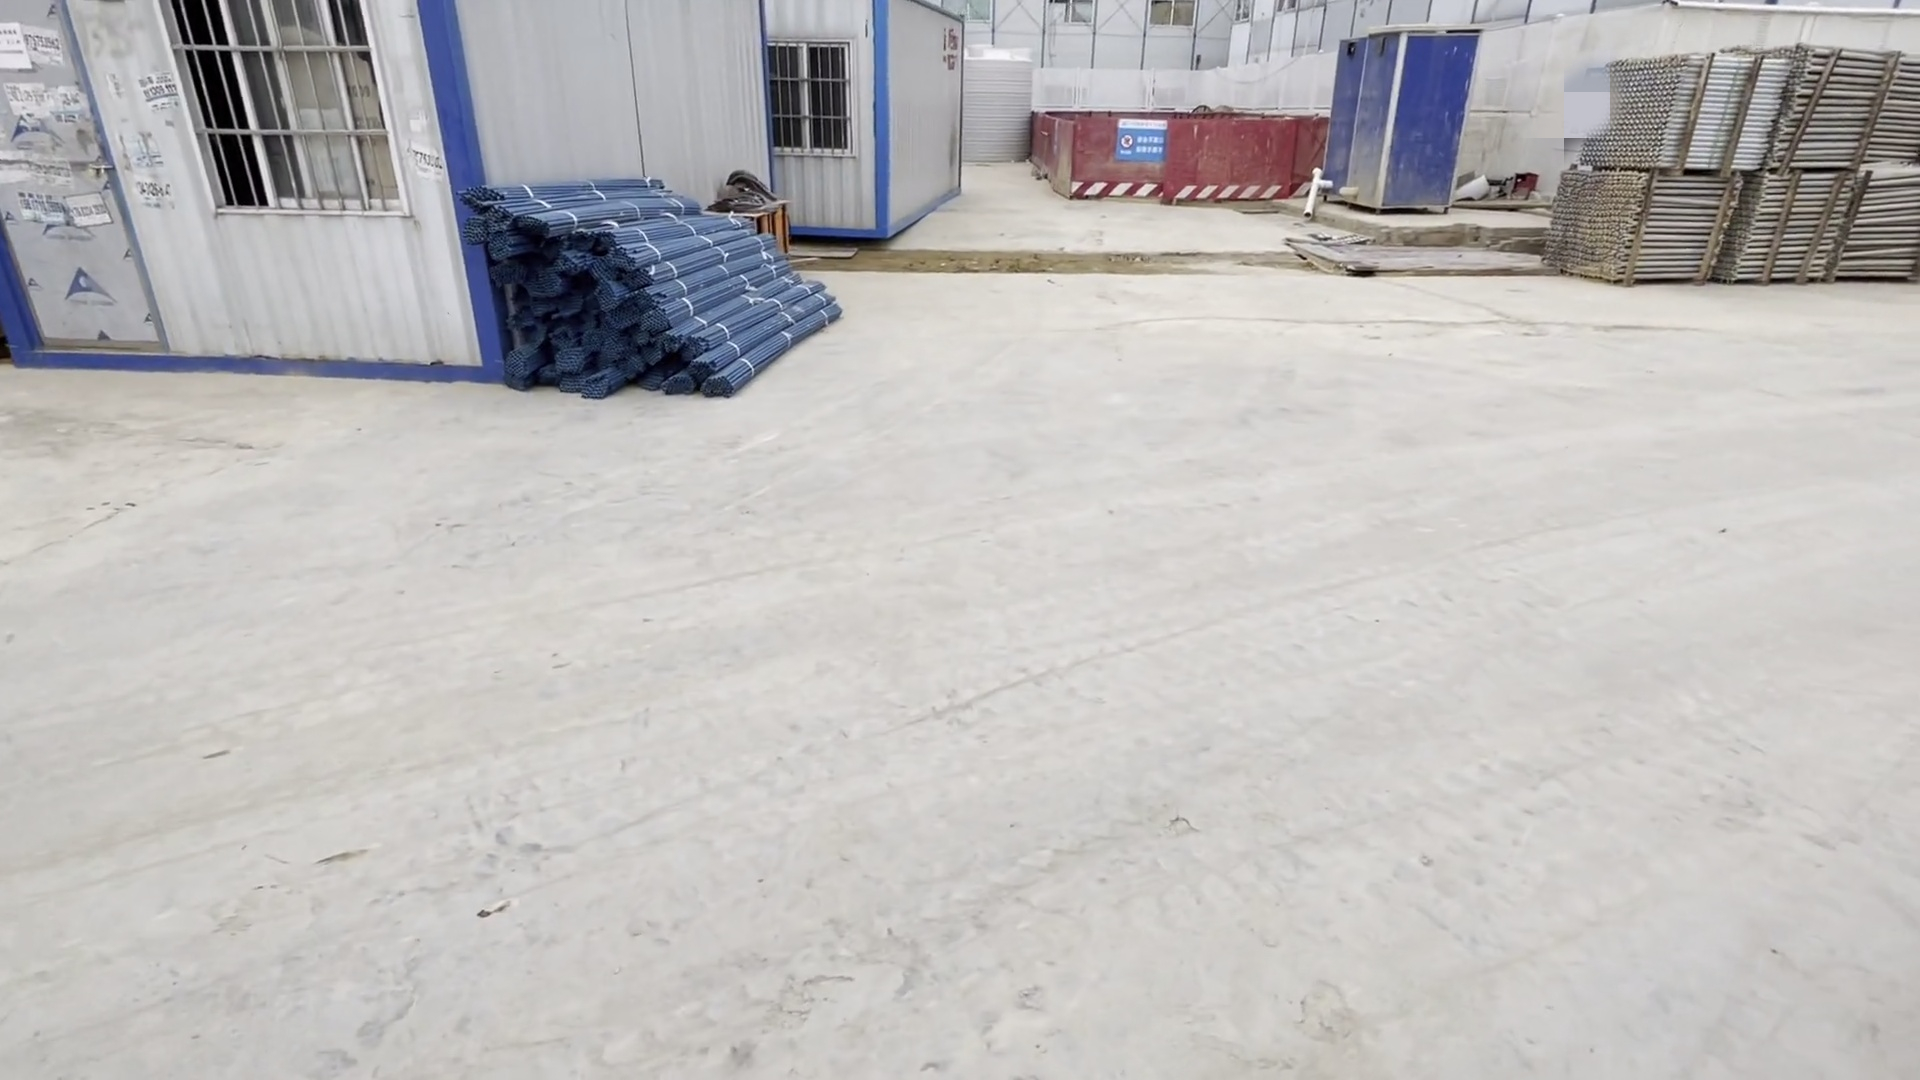fence: (1023, 107, 1317, 218)
scaffold: (1565, 55, 1920, 290)
